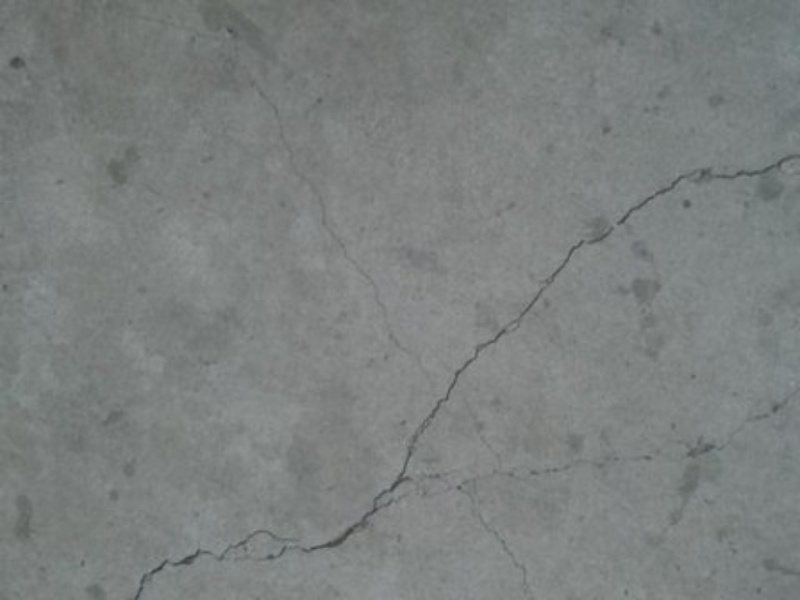crack: (113, 144, 795, 593), (223, 43, 455, 412), (386, 389, 790, 517)
